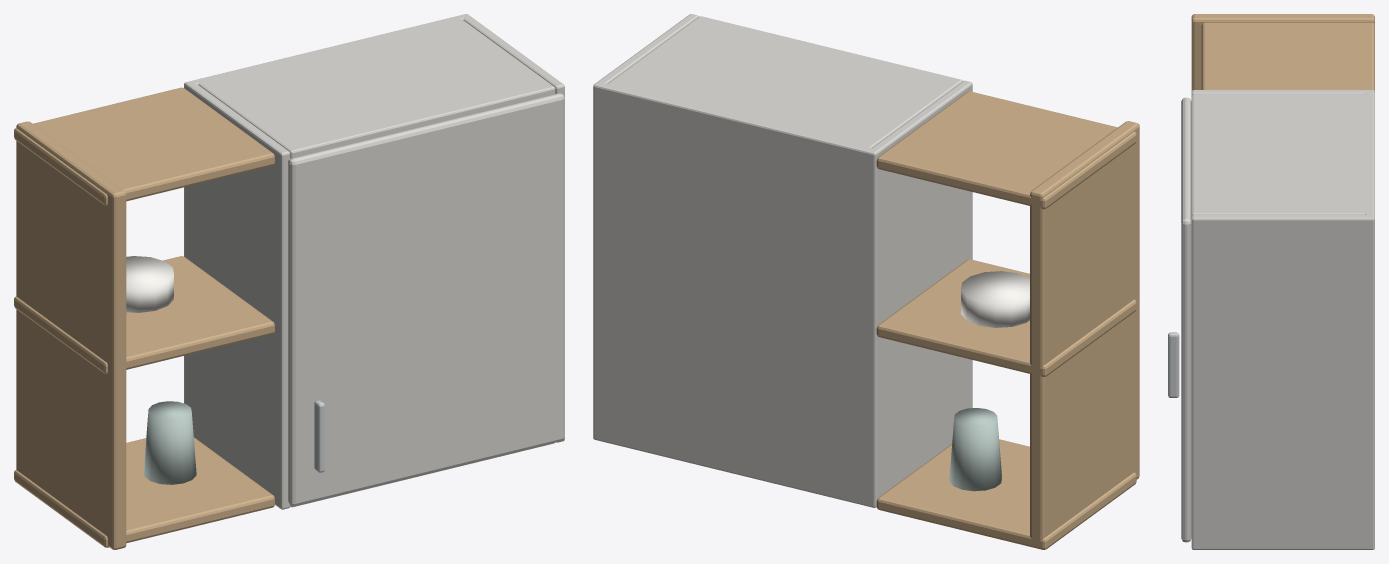
Rendered from wallCabinetCorner.glb.
The picture shows the model from 3 angles, left to right: view 1: azimuth 30°, elevation 25°; view 2: azimuth 150°, elevation 25°; view 3: azimuth 270°, elevation 25°; orthographic projection. The views are drawn at different scales.
Parts seen in each view (by area): view 1: body; view 2: body; view 3: body.
Part boxes in pixels (box(x1,y1,x2,y2)): body: box(14, 14, 564, 549); body: box(593, 14, 1139, 549); body: box(1168, 14, 1374, 549).
Size of the model in its own units: 0.96 by 0.7225 by 0.406.
